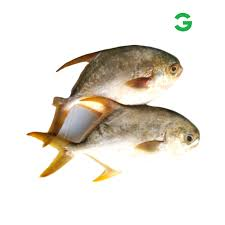Ikan Bawal: (34, 103, 203, 183), (31, 40, 199, 118)
